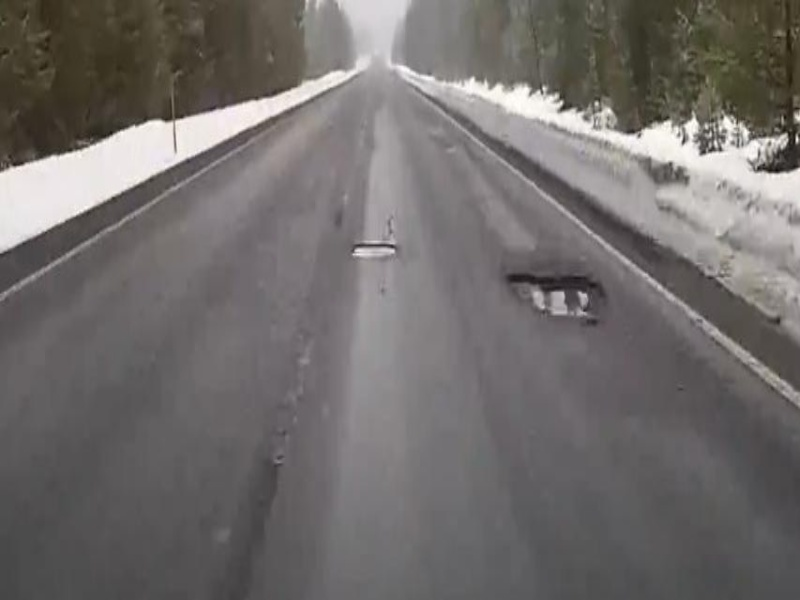pothole: (503, 269, 613, 330), (346, 238, 402, 263)
